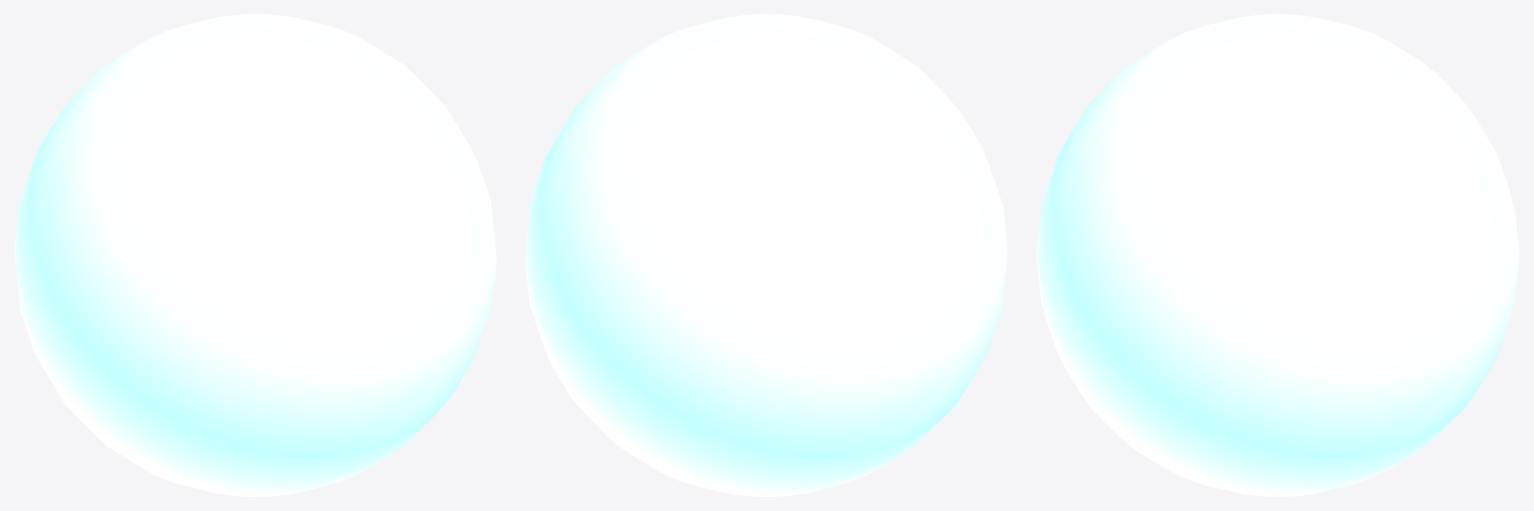
Rendered from orb-storm.glb.
3 views of the same model, side by side, from view 1: azimuth 30°, elevation 25°; view 2: azimuth 150°, elevation 25°; view 3: azimuth 270°, elevation 25° (orthographic).
Visible parts, largest first — view 1: orb-storm; view 2: orb-storm; view 3: orb-storm.
Boxes of the visible parts, x1=… form: orb-storm: x1=14, y1=14, x2=496, y2=496; orb-storm: x1=525, y1=14, x2=1007, y2=496; orb-storm: x1=1036, y1=14, x2=1519, y2=496.
Size of the model in its own units: 1.24 by 1.24 by 1.24.
